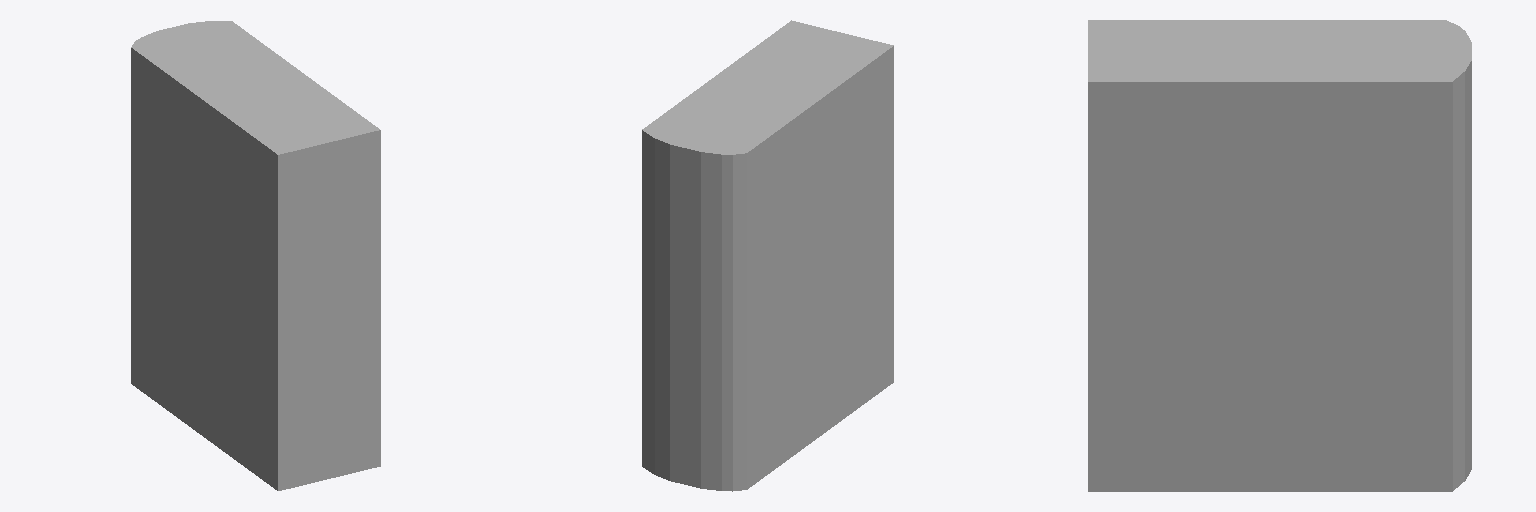
The robot description file, URDF, robot "root":
<robot name="root">
  <link name="link_bf519a4ea7931f1cdca5ddc967bf6ffa_convex_piece_0">
    <inertial>
      <origin rpy="0 0 0" xyz="0 0 0"/>
      <mass value="3.98E-05"/>
      <inertia ixx="1.65E-08" ixy="6.48E-12" ixz="-9.69E-26" iyy="1.07E-08" iyz="1.58E-26" izz="7.76E-09"/>
    </inertial>
    <visual>
      <origin rpy="0 0 0" xyz="0 0 0"/>
      <geometry>
        <mesh filename="bf519a4ea7931f1cdca5ddc967bf6ffa_convex_piece_0.obj" scale="1.0000E+00"/>
      </geometry>
      <material name="">
        <color rgba="7.50E-01 7.50E-01 7.50E-01 1"/>
      </material>
    </visual>
    <collision>
      <origin rpy="0 0 0" xyz="0 0 0"/>
      <geometry>
        <mesh filename="bf519a4ea7931f1cdca5ddc967bf6ffa_convex_piece_0.obj" scale="1.0000E+00"/>
      </geometry>
    </collision>
  </link>
</robot>

--- What the picture shows (computed from the rendered views, not written in the file) ---
3 views of the same robot in one strip: view 1: azimuth 30°, elevation 25°; view 2: azimuth 150°, elevation 25°; view 3: azimuth 270°, elevation 25° (orthographic).
Model root with 1 links and 0 joints (none), rooted at link_bf519a4ea7931f1cdca5ddc967bf6ffa_convex_piece_0, posed all joints at 0.
Visible links, largest first — view 1: link_bf519a4ea7931f1cdca5ddc967bf6ffa_convex_piece_0; view 2: link_bf519a4ea7931f1cdca5ddc967bf6ffa_convex_piece_0; view 3: link_bf519a4ea7931f1cdca5ddc967bf6ffa_convex_piece_0.
Boxes of the visible links, <box> form: link_bf519a4ea7931f1cdca5ddc967bf6ffa_convex_piece_0: <box>131,21,380,490</box>; link_bf519a4ea7931f1cdca5ddc967bf6ffa_convex_piece_0: <box>642,20,893,491</box>; link_bf519a4ea7931f1cdca5ddc967bf6ffa_convex_piece_0: <box>1088,20,1471,491</box>.
Bounding box of the posed robot: 0.0173 × 0.0459 × 0.0542 m (x, y, z).
1 mesh visuals loaded from 1 distinct referenced files (1 OBJ).